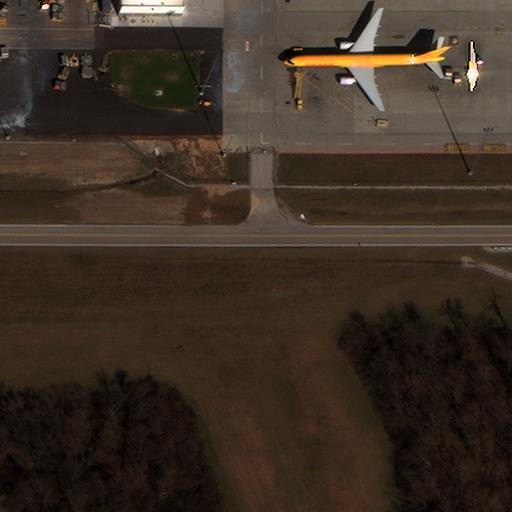Large Civil Transport: (283, 8, 445, 110)
